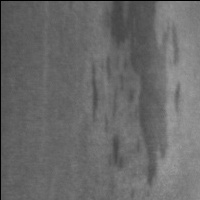inclusion: (99, 2, 183, 191), (92, 54, 136, 134), (102, 130, 128, 172)
